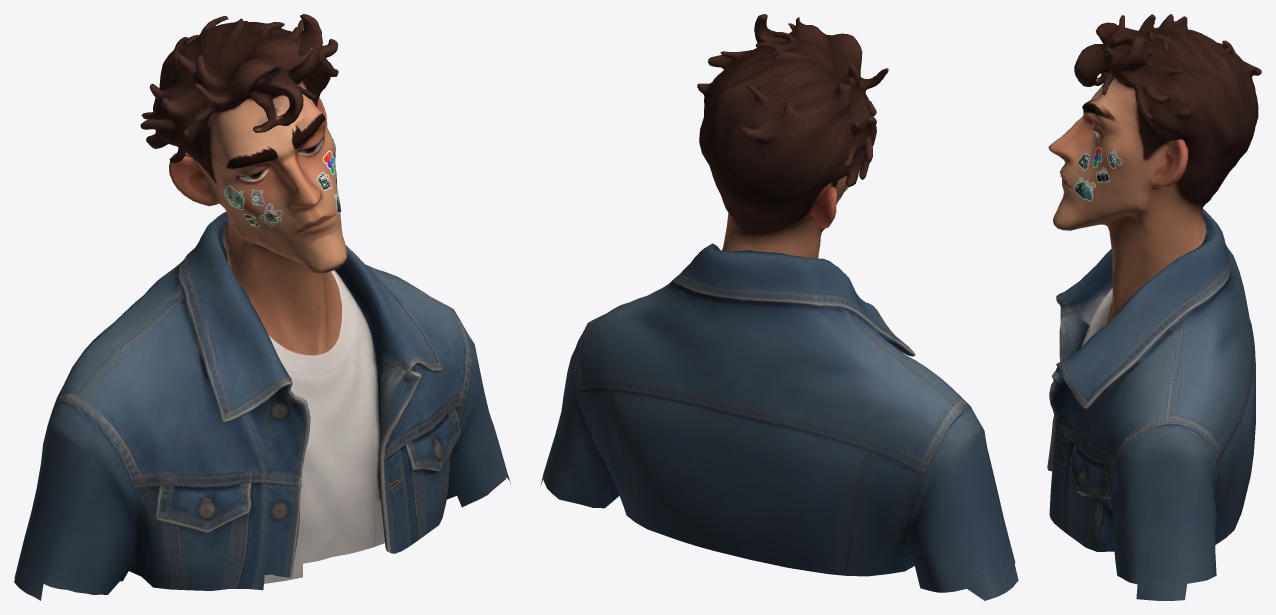
The model's file is banner.glb.
3 renders of one model, left to right at view 1: azimuth 30°, elevation 25°; view 2: azimuth 150°, elevation 25°; view 3: azimuth 270°, elevation 25°, orthographic. The views are drawn at different scales.
Visible parts, largest first — view 1: Mesh_0; view 2: Mesh_0; view 3: Mesh_0, Plane.005.
Part boxes in pixels (x1=…): Mesh_0: x1=14, y1=14, x2=510, y2=600; Mesh_0: x1=540, y1=14, x2=1018, y2=600; Mesh_0: x1=1047, y1=14, x2=1261, y2=600; Plane.005: x1=1073, y1=177, x2=1095, y2=201.
Size of the model in its own units: 1.73 by 1.8 by 0.7436.
Materials: 2 (2 with a texture image).
